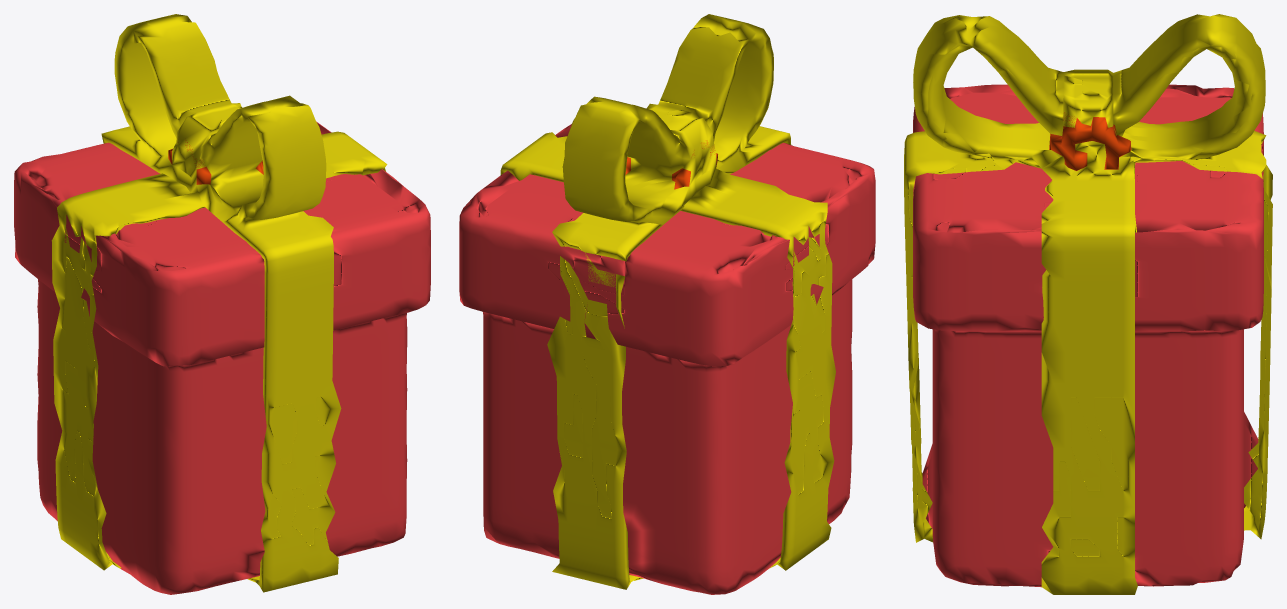
Rendered from gift.glb.
3 renders of one model, left to right at view 1: azimuth 30°, elevation 25°; view 2: azimuth 150°, elevation 25°; view 3: azimuth 270°, elevation 25°, orthographic. The views are drawn at different scales.
Bounding box in the file's own units: 0.6645 × 1 × 0.6646.
